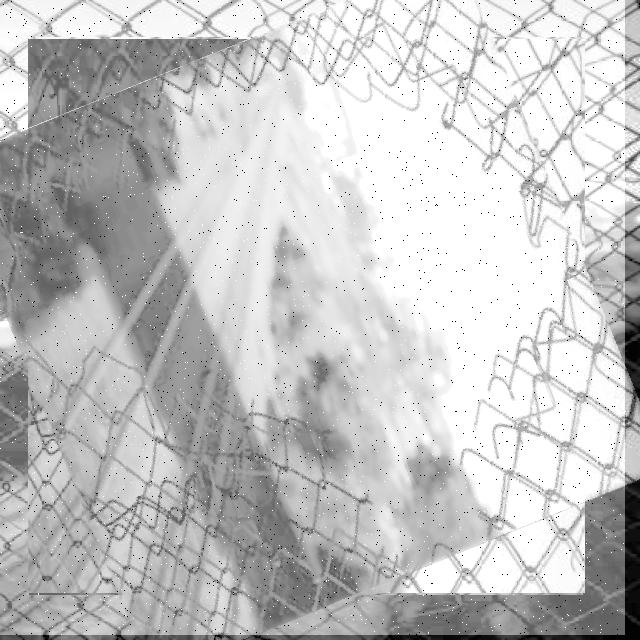anomaly-fence: (0, 0, 625, 635)
